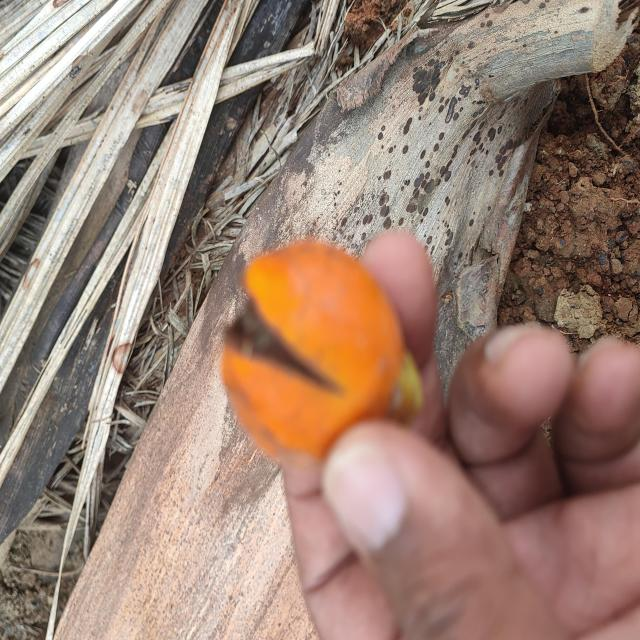damaged: (221, 240, 422, 461)
